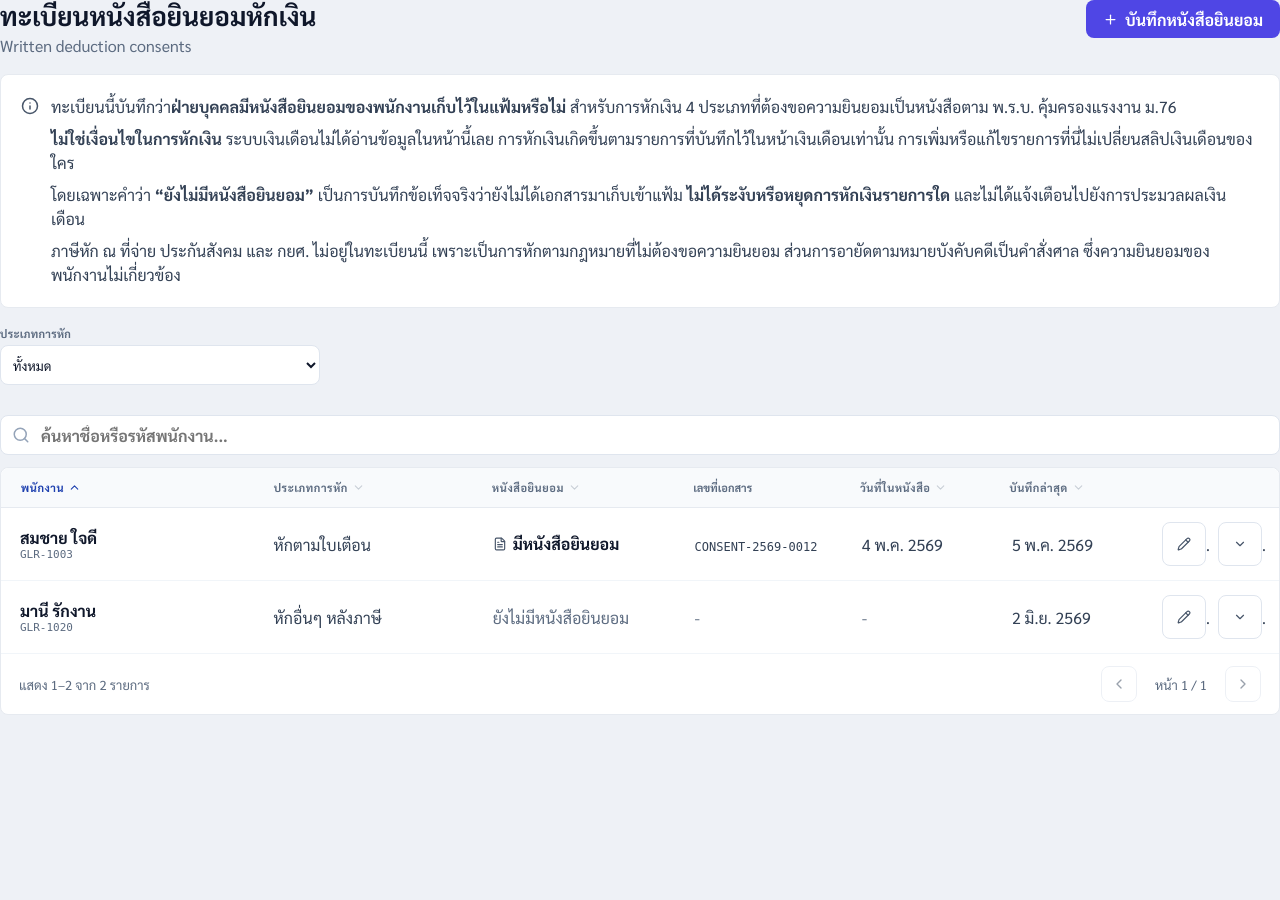
Test: DeductionConsentsPage › write affordances › states inside the dialog that ticking the box changes no deduction
Expected: the text "สมชาย ใจดี" is shown, [20,527,97,548]
Step 1. Click the button "บันทึกหนังสือยินยอม" → [1183, 19], box [1086,0,1279,38]
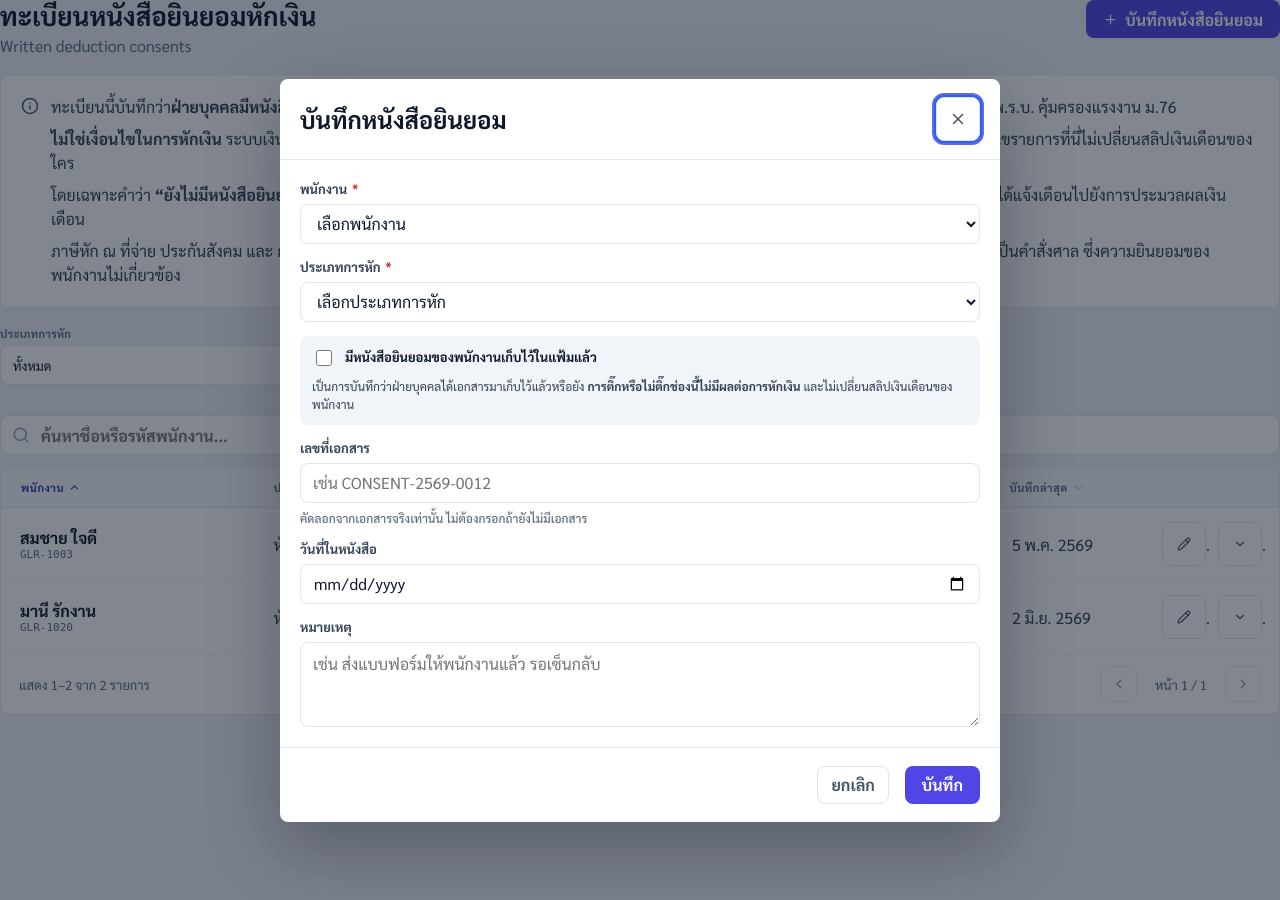
Now the text "การติ๊กหรือไม่ติ๊กช่องนี้ไม่มีผลต่อการหักเงิน" is shown, box [587,378,800,394]
